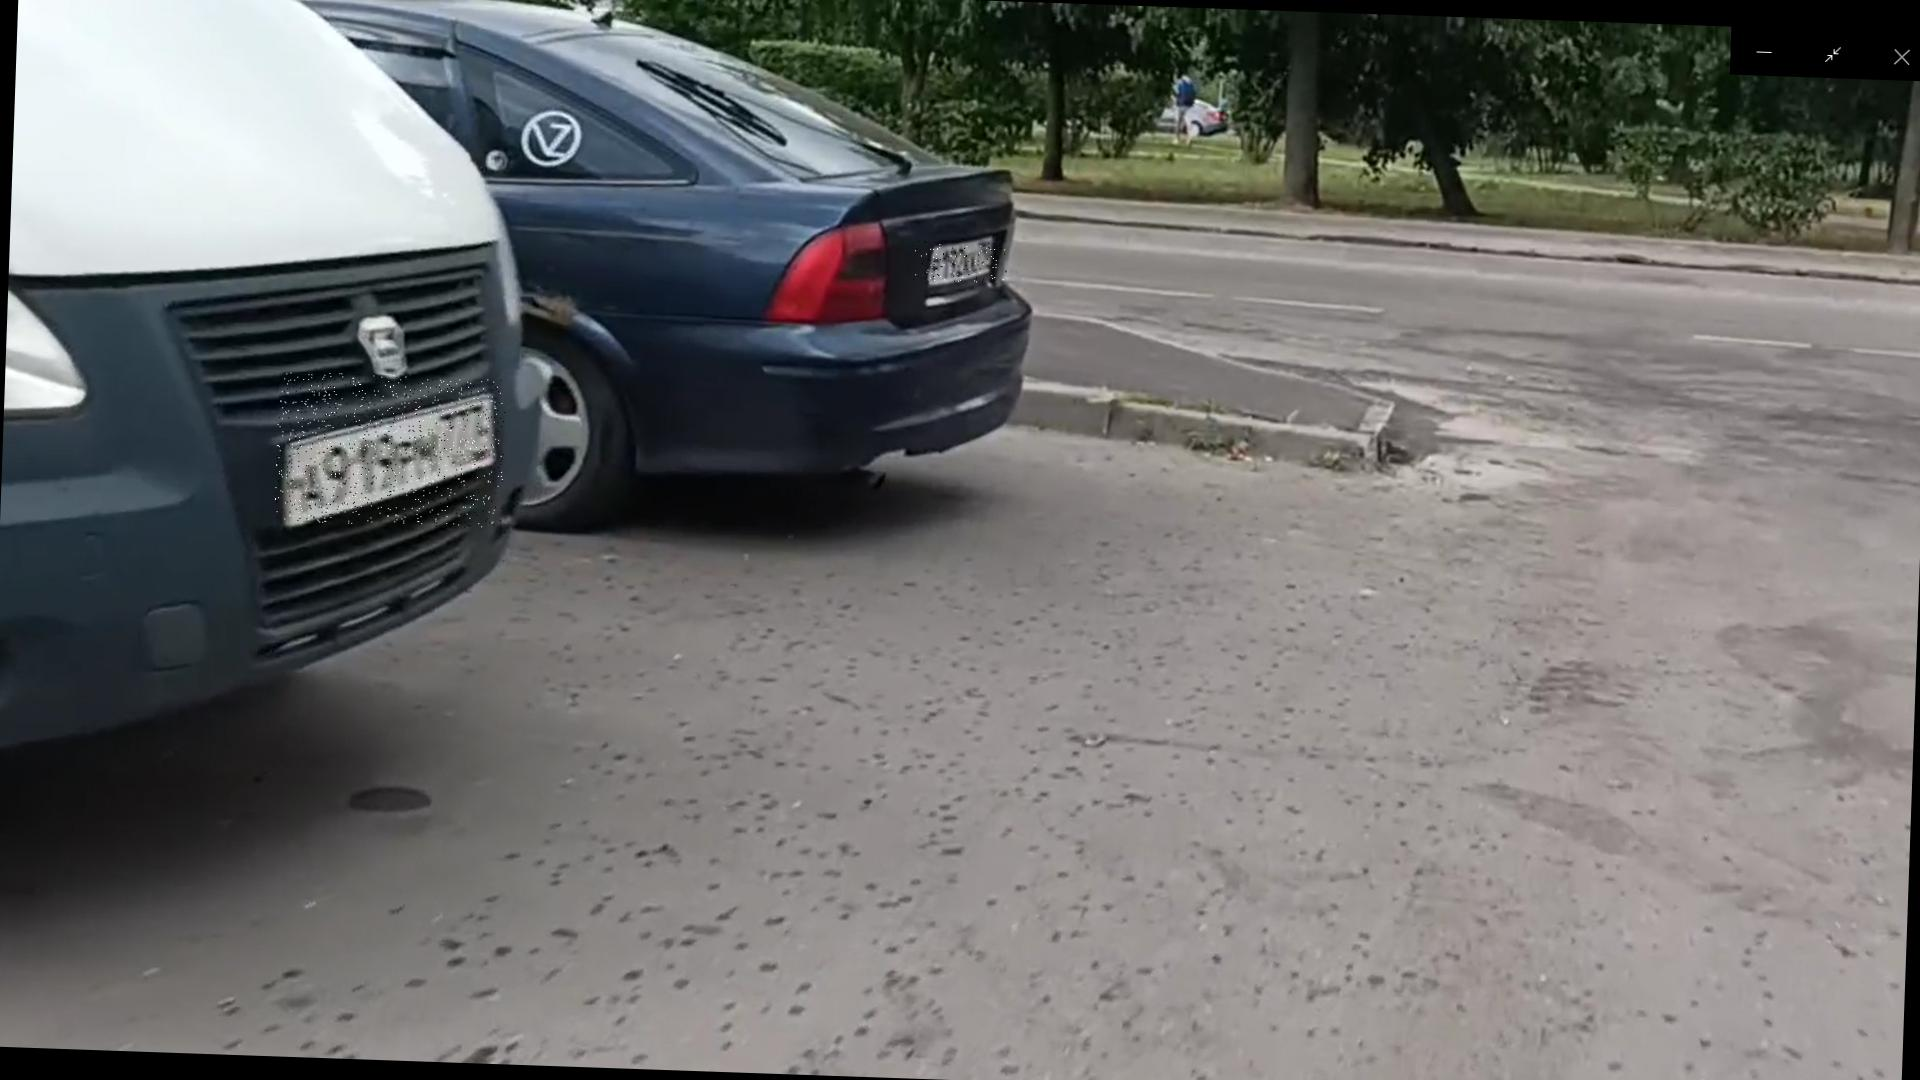plate: (276, 373, 508, 531), (915, 242, 1010, 285)
